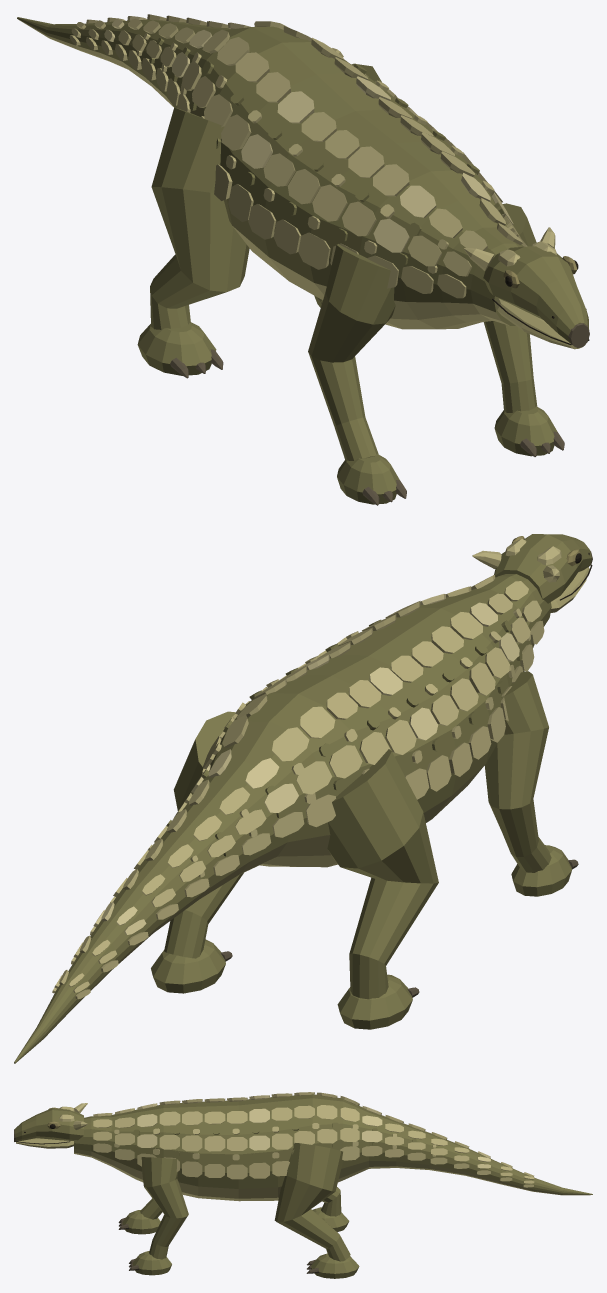
The picture shows the model from 3 angles, top to bottom: view 1: azimuth 30°, elevation 25°; view 2: azimuth 150°, elevation 25°; view 3: azimuth 270°, elevation 25°; orthographic projection. The views are drawn at different scales.
Parts seen in each view (by area): view 1: Axial_body_neck_tapered_tail, Four_weight_bearing_limbs, Longitudinal_low_keeled_osteoderms, Wedge_skull_and_lower_jaw, Intervening_small_ossicles, Beak_toes_and_skull_knobs; view 2: Axial_body_neck_tapered_tail, Four_weight_bearing_limbs, Longitudinal_low_keeled_osteoderms, Intervening_small_ossicles, Wedge_skull_and_lower_jaw, Beak_toes_and_skull_knobs; view 3: Axial_body_neck_tapered_tail, Longitudinal_low_keeled_osteoderms, Four_weight_bearing_limbs, Wedge_skull_and_lower_jaw, Intervening_small_ossicles, Beak_toes_and_skull_knobs.
Part boxes in pixels (x1,y1,x2,y2): Axial_body_neck_tapered_tail: [17, 17, 523, 329]; Four_weight_bearing_limbs: [137, 63, 557, 504]; Longitudinal_low_keeled_osteoderms: [69, 14, 527, 298]; Wedge_skull_and_lower_jaw: [483, 246, 589, 349]; Intervening_small_ossicles: [136, 33, 556, 273]; Beak_toes_and_skull_knobs: [170, 227, 589, 505]; Axial_body_neck_tapered_tail: [14, 574, 551, 1063]; Four_weight_bearing_limbs: [151, 671, 571, 1029]; Longitudinal_low_keeled_osteoderms: [52, 574, 544, 999]; Intervening_small_ossicles: [148, 538, 561, 877]; Wedge_skull_and_lower_jaw: [494, 534, 592, 612]; Beak_toes_and_skull_knobs: [221, 550, 592, 997]; Axial_body_neck_tapered_tail: [74, 1094, 592, 1201]; Longitudinal_low_keeled_osteoderms: [93, 1092, 534, 1187]; Four_weight_bearing_limbs: [122, 1143, 359, 1278]; Wedge_skull_and_lower_jaw: [14, 1108, 83, 1148]; Intervening_small_ossicles: [59, 1106, 436, 1160]; Beak_toes_and_skull_knobs: [14, 1103, 318, 1273].
Size of the model in its own units: 0.99 by 1.15 by 4.01.
